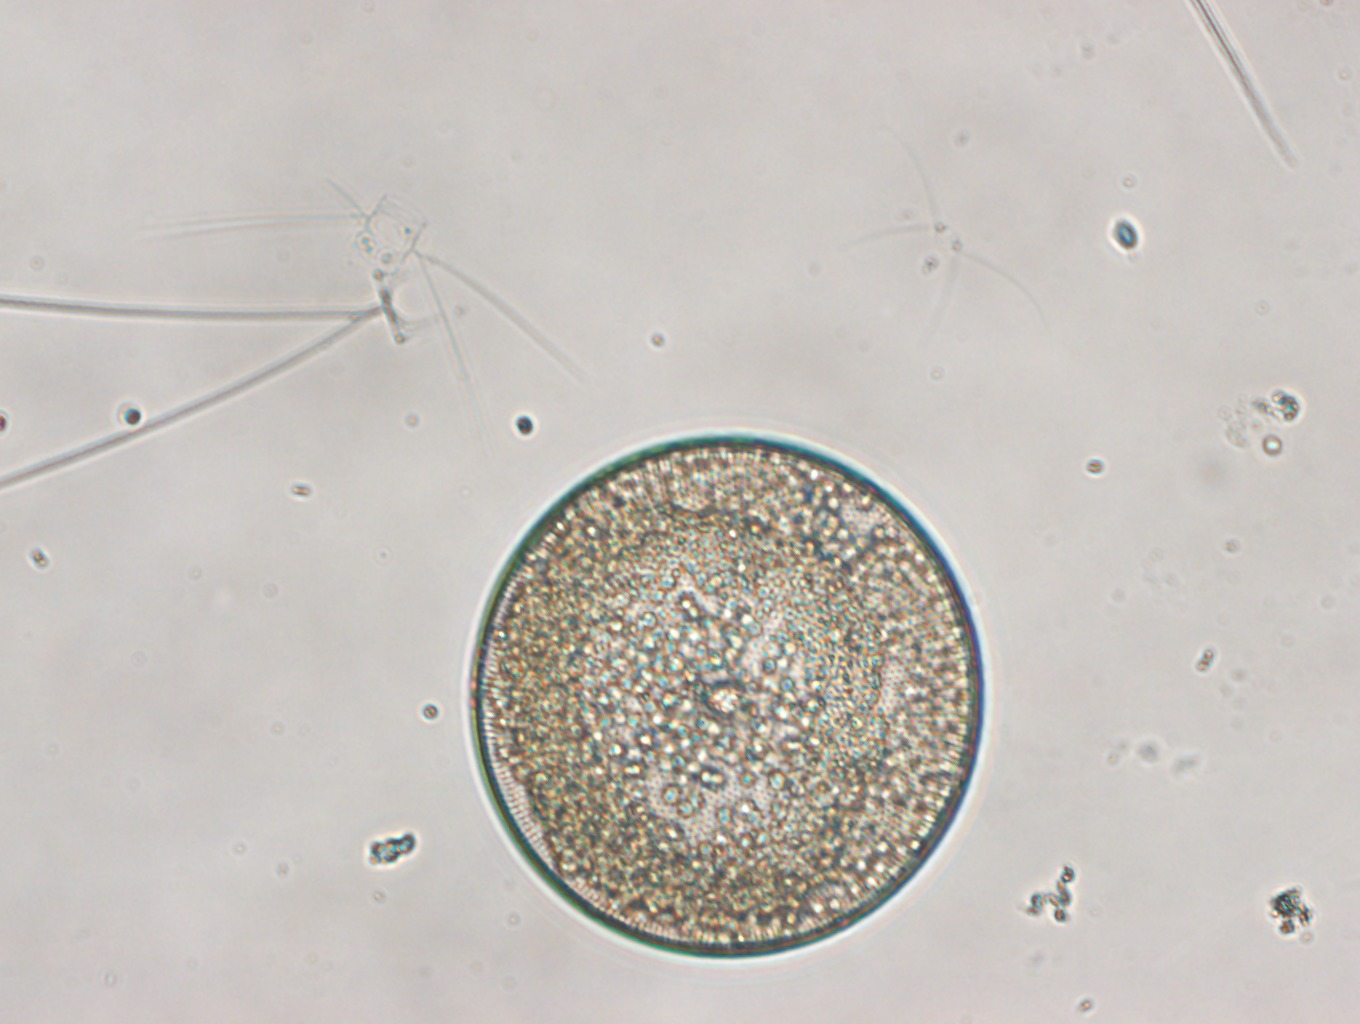chaetoceros: (1, 267, 449, 485), (140, 176, 595, 388), (831, 138, 1046, 336)
coscinodiscus: (467, 431, 985, 958)
